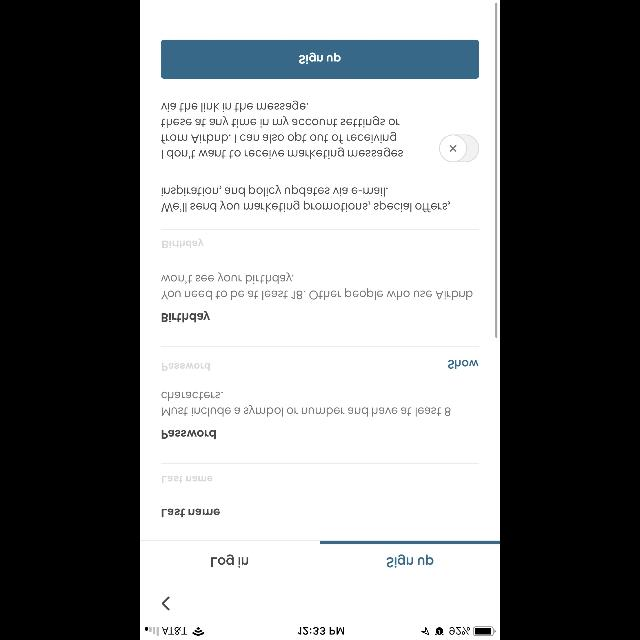icon: (162, 596, 170, 610)
input: (161, 346, 479, 370), (161, 463, 479, 483), (161, 230, 479, 248)
switch: (439, 134, 479, 162)
text: (161, 100, 403, 160), (162, 272, 472, 300), (162, 185, 450, 213), (162, 392, 450, 416), (386, 554, 434, 568), (162, 508, 220, 518), (162, 311, 210, 323), (162, 429, 216, 439), (212, 554, 248, 568), (162, 238, 204, 248), (163, 476, 213, 484), (162, 363, 210, 371), (448, 359, 478, 369)
textbutton: (161, 40, 479, 78)
uppertaskbar: (140, 626, 500, 640)
